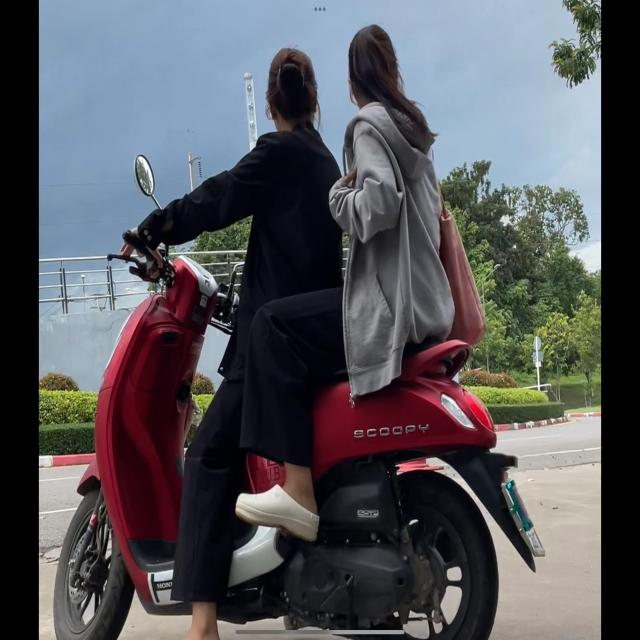seatbelt: (264, 41, 322, 136), (345, 23, 402, 111)
